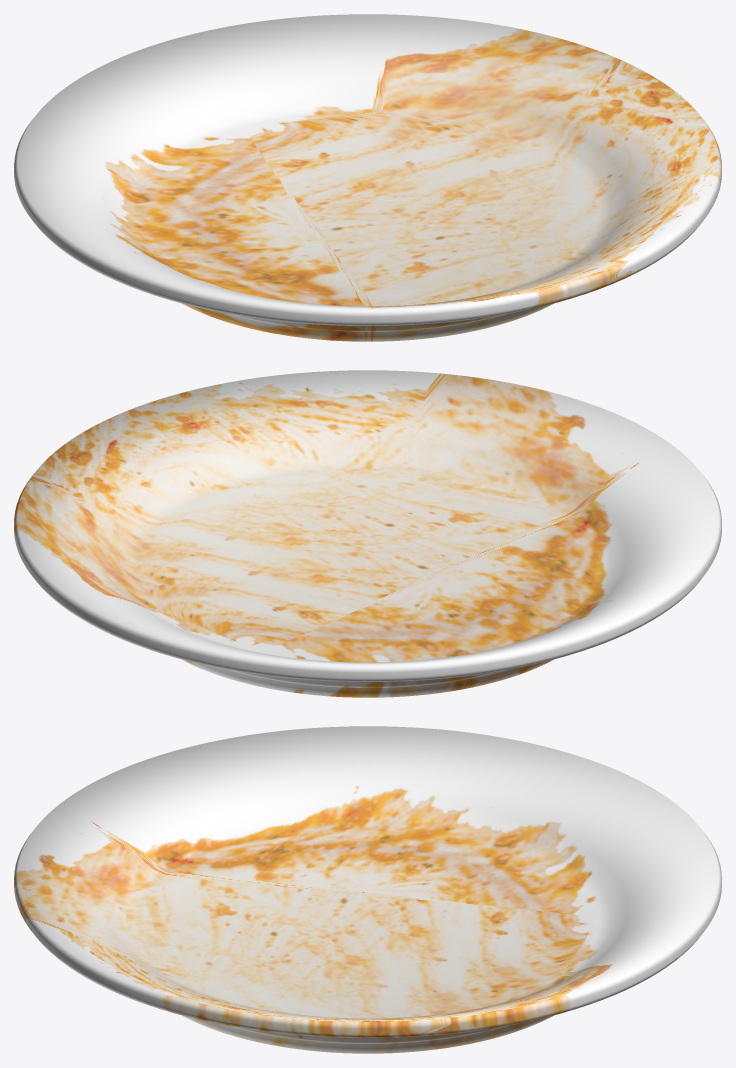
The model's file is Plate dirtyNEW.fbx.
3 views of the same model, one above another, from view 1: azimuth 30°, elevation 25°; view 2: azimuth 150°, elevation 25°; view 3: azimuth 270°, elevation 25° (orthographic).
Visible parts, largest first — view 1: Plates; view 2: Plates; view 3: Plates.
Boxes of the visible parts, <box> form: Plates: <box>14,14,721,341</box>; Plates: <box>14,370,721,697</box>; Plates: <box>14,726,721,1053</box>.
Size of the model in its own units: 636 by 78.6 by 636.
